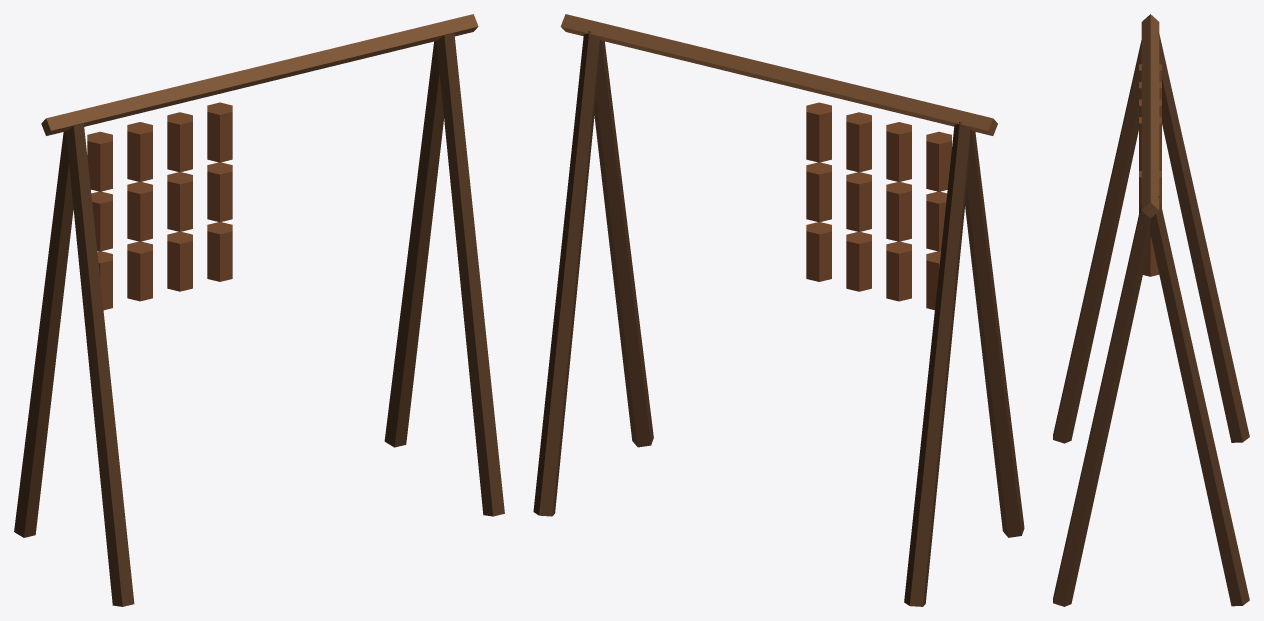
The model's file is pile_smoked_1.glb.
3 renders of one model, left to right at view 1: azimuth 30°, elevation 25°; view 2: azimuth 150°, elevation 25°; view 3: azimuth 270°, elevation 25°, orthographic. The views are drawn at different scales.
Parts seen in each view (by area): view 1: pile_smoked_1; view 2: pile_smoked_1; view 3: pile_smoked_1.
Part boxes in pixels (bbox=[...]): pile_smoked_1: bbox=[14, 14, 504, 606]; pile_smoked_1: bbox=[533, 14, 1024, 606]; pile_smoked_1: bbox=[1053, 14, 1249, 606].
Size of the model in its own units: 1.5 by 1.54 by 0.6621.
